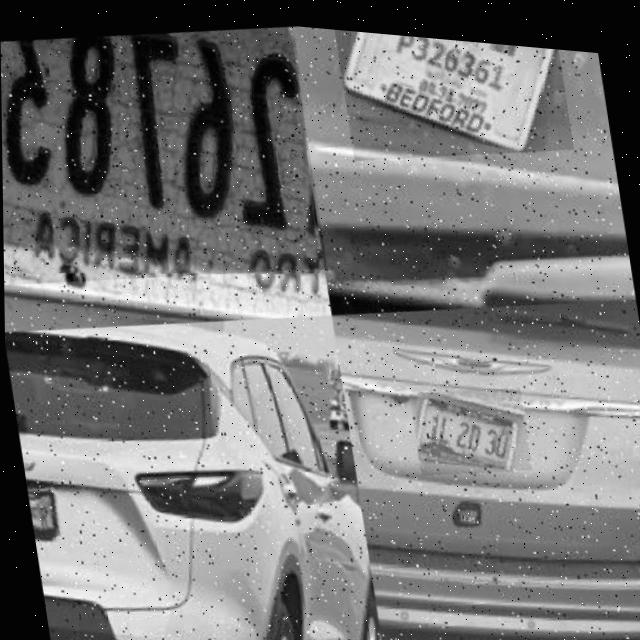LicensePlate: (0, 1, 326, 309), (343, 25, 556, 142), (417, 385, 524, 461), (26, 485, 57, 535)
